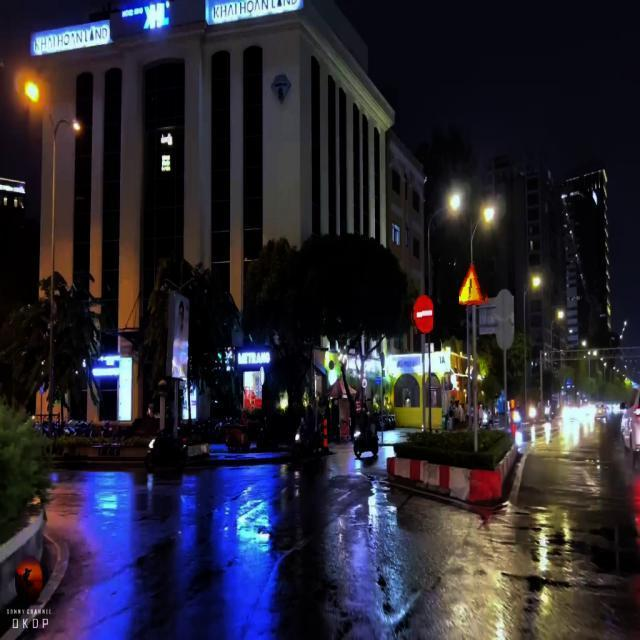102-cam-di-nguoc-chieu: (412, 293, 434, 333)
